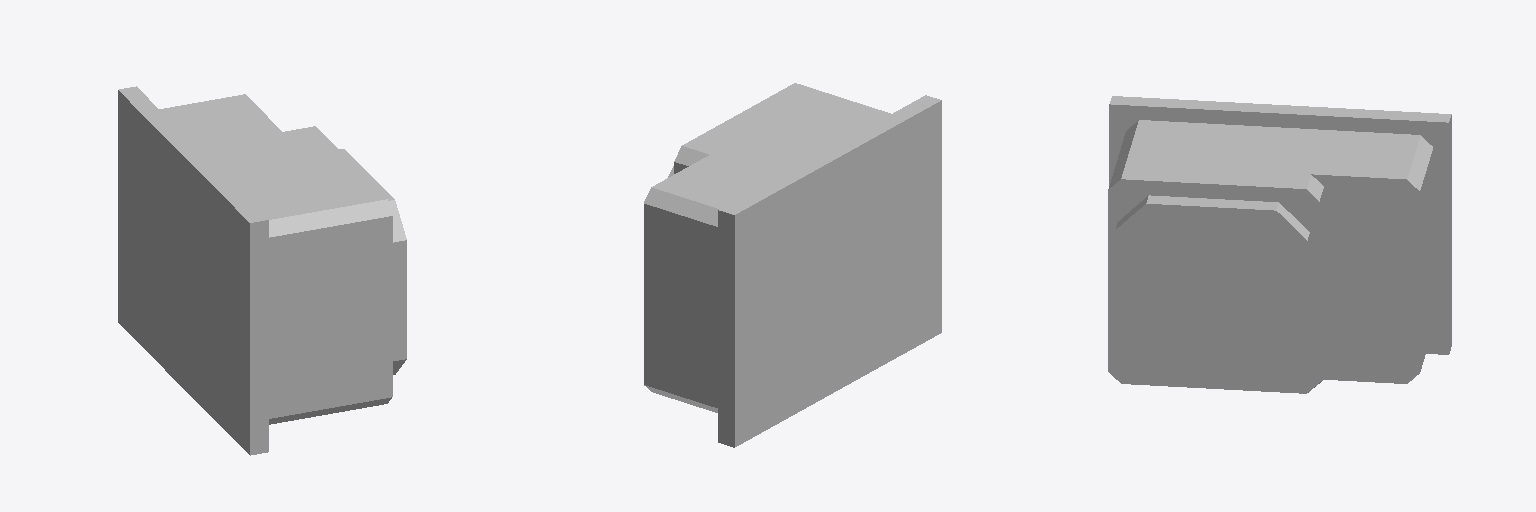
Rendered from wide_angle_camera.obj.
3 views of the same model, side by side, from view 1: azimuth 30°, elevation 25°; view 2: azimuth 150°, elevation 25°; view 3: azimuth 270°, elevation 25° (orthographic).
Parts seen in each view (by area): view 1: wide_angle_camera; view 2: wide_angle_camera; view 3: wide_angle_camera.
Boxes of the visible parts, x1,y1,x2,y2 form: wide_angle_camera: [118, 86, 406, 455]; wide_angle_camera: [644, 83, 941, 447]; wide_angle_camera: [1108, 96, 1451, 393].
Size of the model in its own units: 0.0322 by 0.0398 by 0.0532.